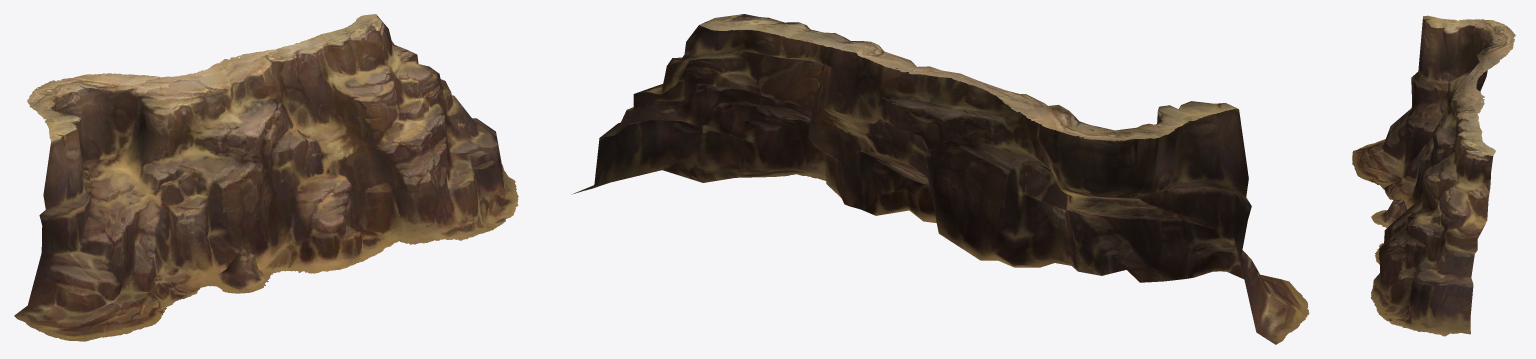
The model's file is Stone_1.FBX.
3 views of the same model, side by side, from view 1: azimuth 30°, elevation 25°; view 2: azimuth 150°, elevation 25°; view 3: azimuth 270°, elevation 25° (orthographic). The views are drawn at different scales.
Visible parts, largest first — view 1: Stone_1; view 2: Stone_1; view 3: Stone_1.
Boxes of the visible parts, x1,y1,x2,y2 form: Stone_1: (14,14,518,341); Stone_1: (571,14,1309,344); Stone_1: (1352,15,1515,336).
Bounding box in the file's own units: 3836 × 1216 × 1352.
